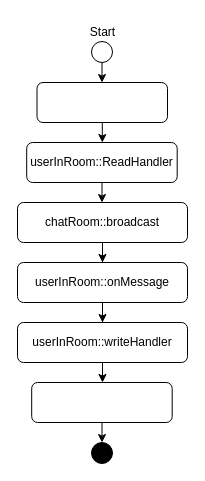
The diagram is 205 pixels wide and 481 high, and some of its shapes have lost their labels. The centre of each missing label's shape, as x and y in pixels:
clientApp::readHandler: point (101, 402)
clientApp::writeHandler: point (102, 102)
